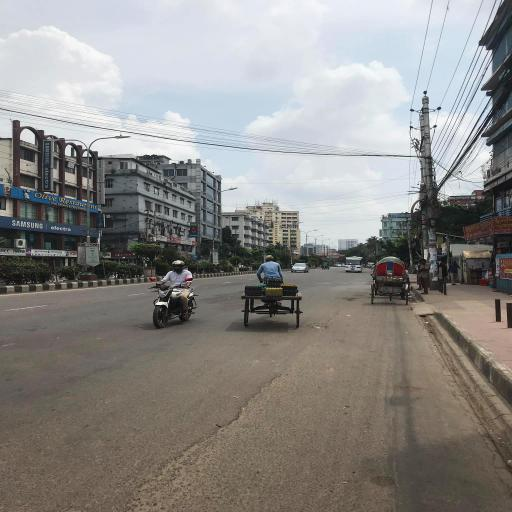bus: (345, 257, 364, 274)
car: (291, 263, 310, 274)
motorbike: (146, 277, 197, 330)
rickshaw: (370, 257, 411, 307)
three wheelers (CNG): (322, 263, 330, 271)
wheelbarrow: (236, 278, 303, 330)
